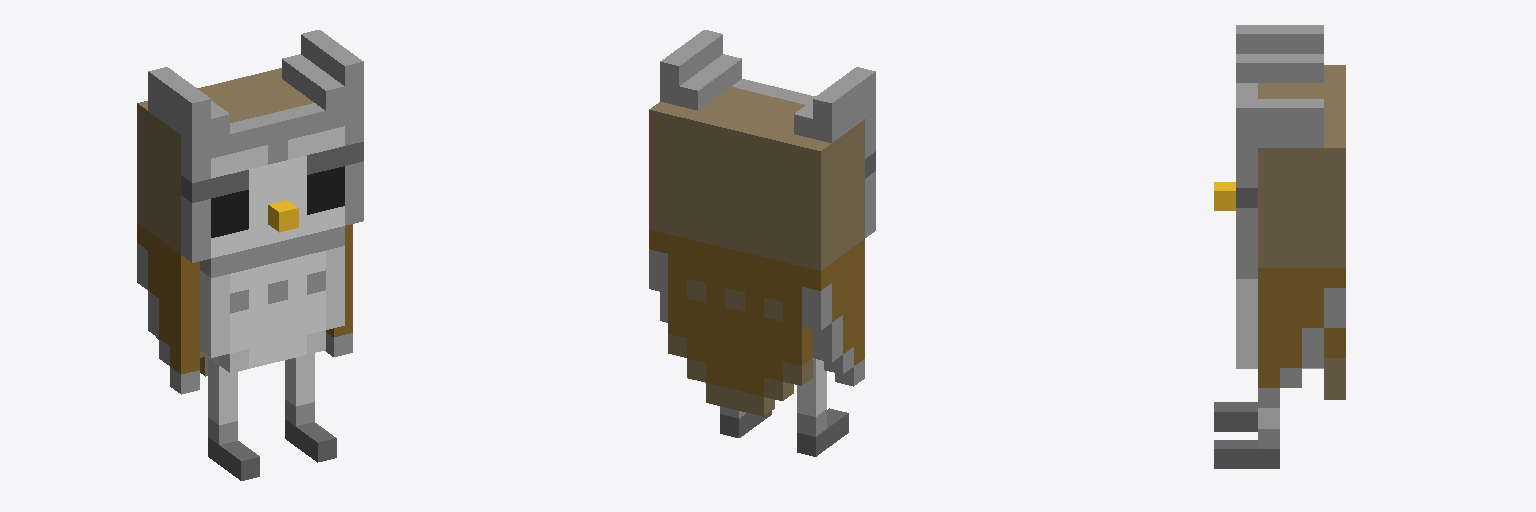
3 views of the same model, side by side, from view 1: azimuth 30°, elevation 25°; view 2: azimuth 150°, elevation 25°; view 3: azimuth 270°, elevation 25° (orthographic).
Size of the model in its own units: 9 by 19 by 6.
1 materials, 1 textured.